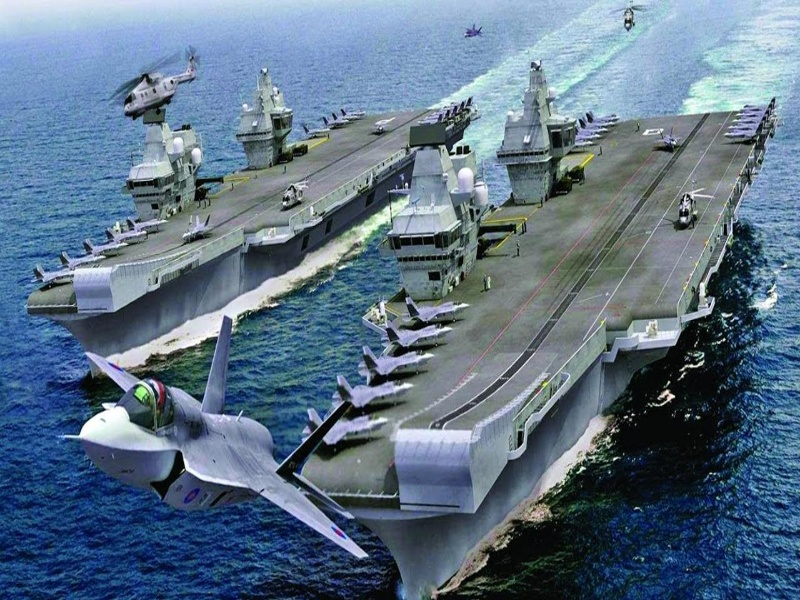carrier: (374, 112, 778, 586), (47, 64, 388, 333)
